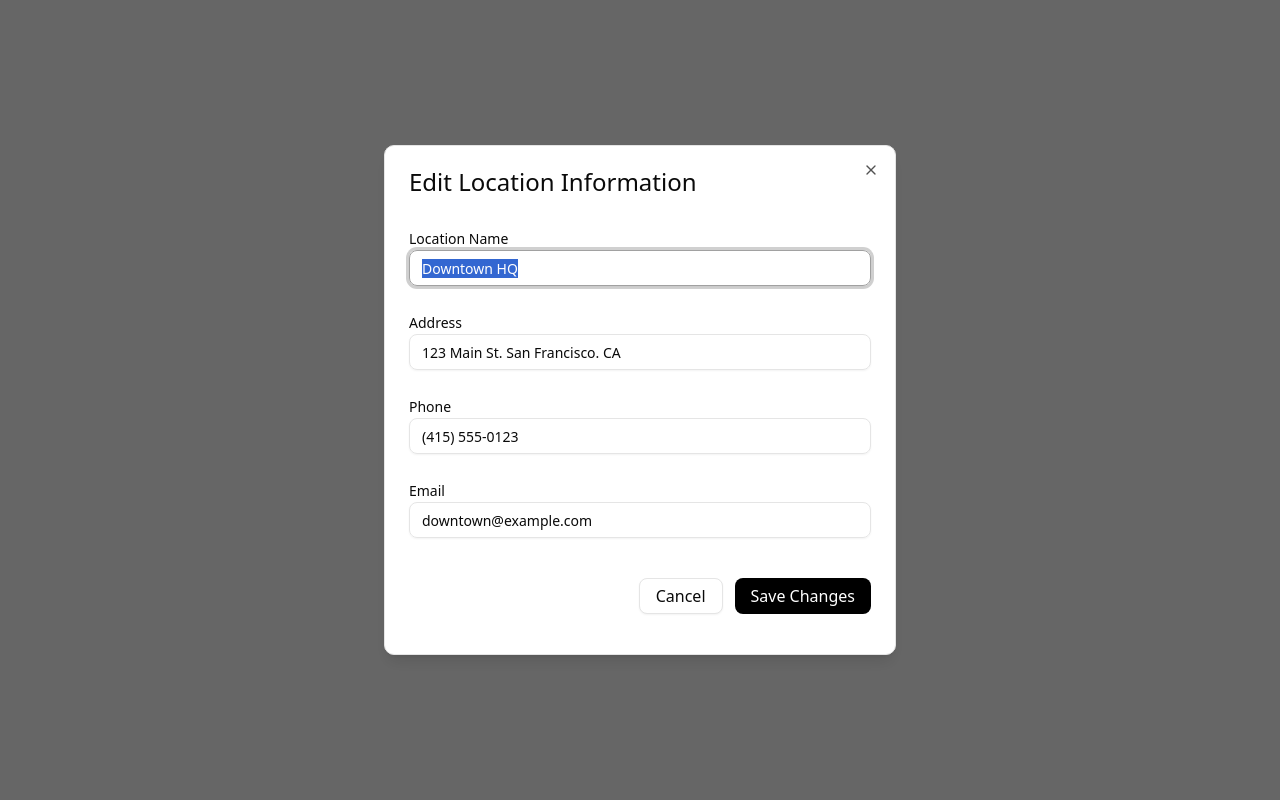
Test: EditLocationModal › should disable save button when form is invalid
This screenshot has width=1280, height=800.
Clear the field with placeholder "Enter location name" below "Location Name" at (640, 268), box [409,250,871,286]
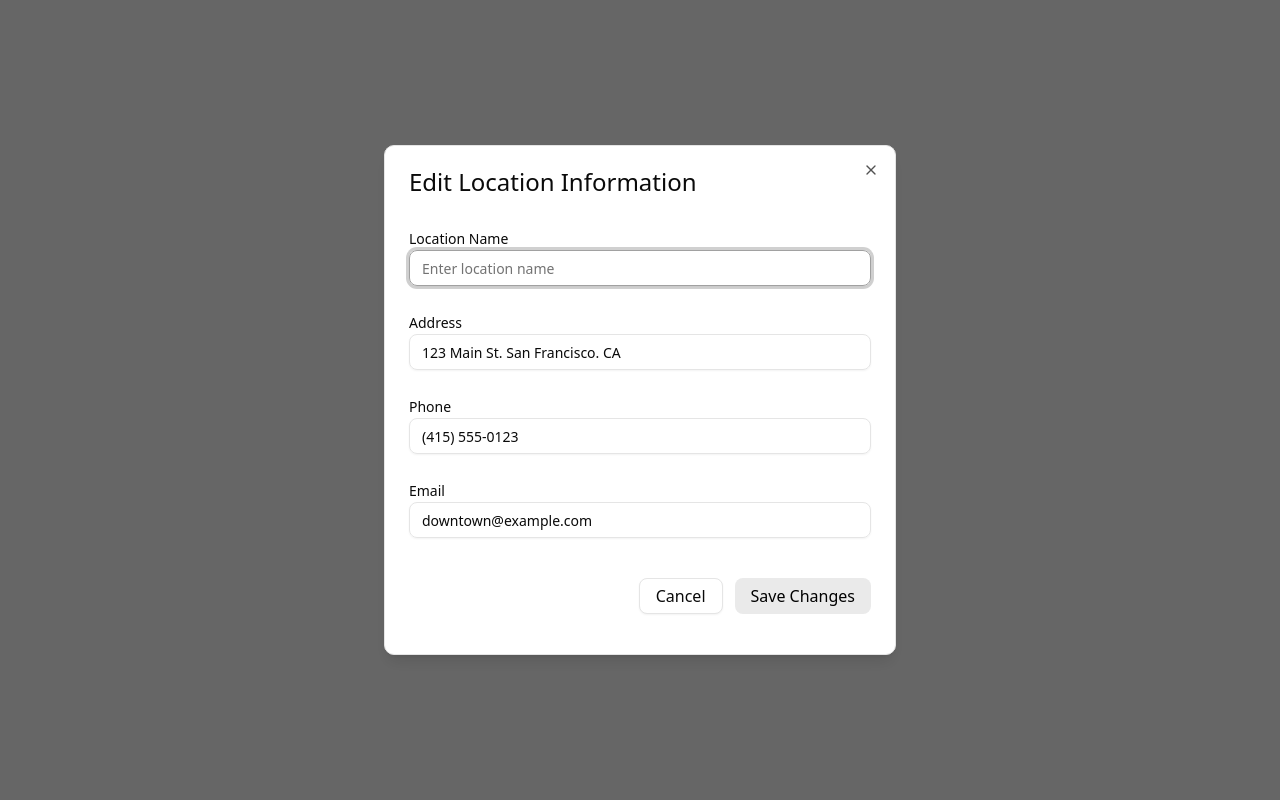
Result: the button "Save Changes" is disabled at [734,578,871,614]
